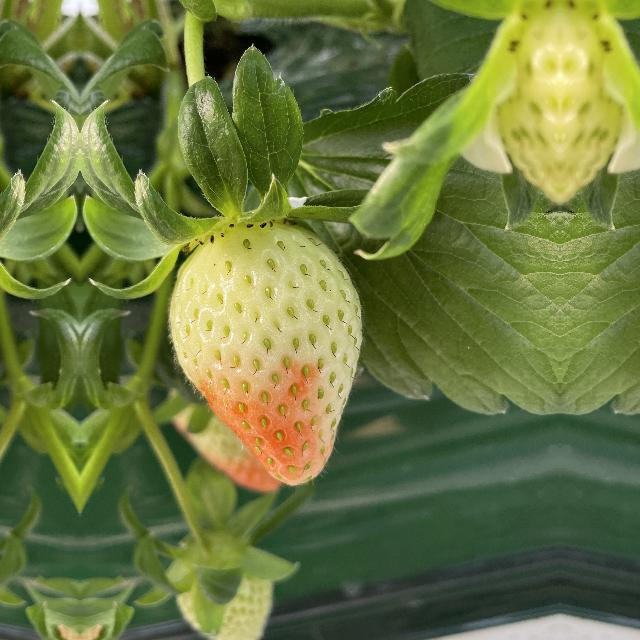Health_50: (160, 219, 368, 491)
